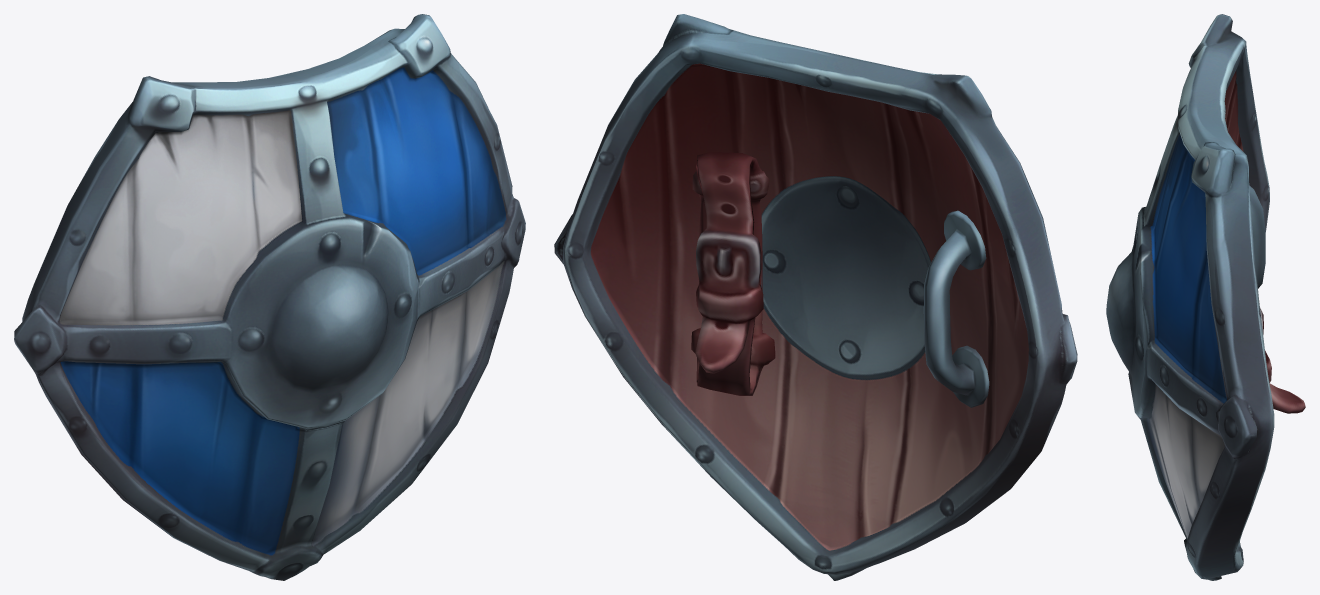
Rendered from Kite Shield.FBX.
The picture shows the model from 3 angles, left to right: view 1: azimuth 30°, elevation 25°; view 2: azimuth 150°, elevation 25°; view 3: azimuth 270°, elevation 25°; orthographic projection. The views are drawn at different scales.
Visible parts, largest first — view 1: Kite Shield; view 2: Kite Shield; view 3: Kite Shield.
Part boxes in pixels (x1,y1,x2,y2): Kite Shield: (14, 14, 525, 580); Kite Shield: (554, 14, 1077, 580); Kite Shield: (1106, 14, 1305, 580).
Size of the model in its own units: 68.8 by 24.4 by 68.28.
Materials: 1 (1 with a texture image).
